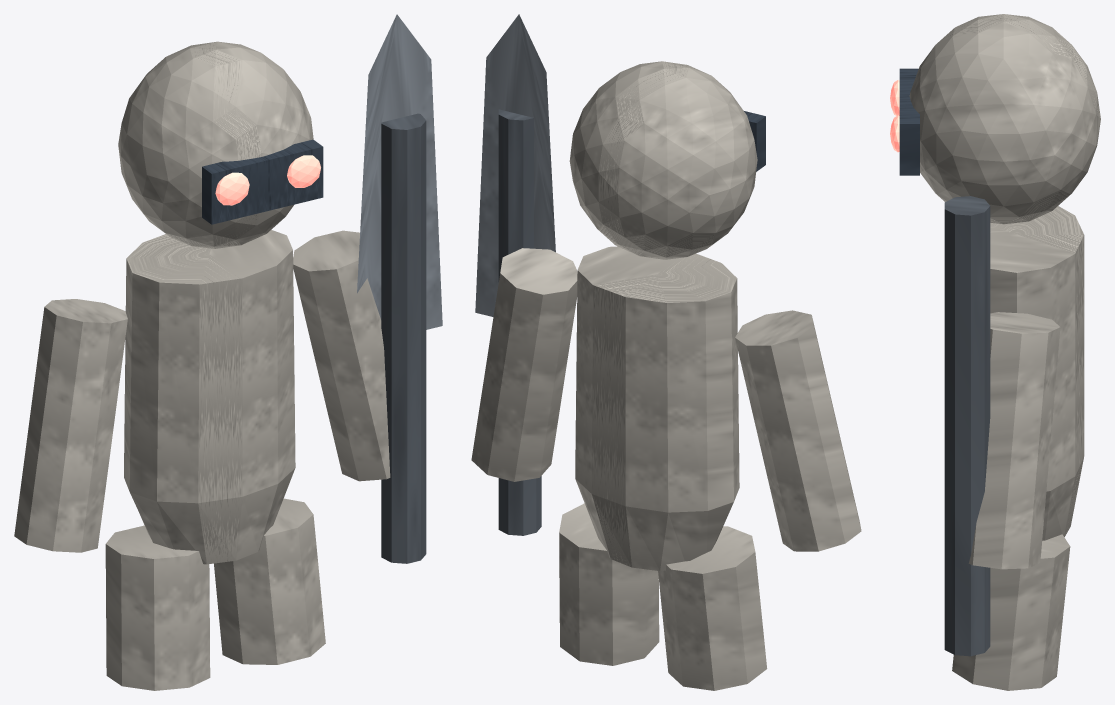
The model's file is summoned_skeleton.glb.
3 renders of one model, left to right at view 1: azimuth 30°, elevation 25°; view 2: azimuth 150°, elevation 25°; view 3: azimuth 270°, elevation 25°, orthographic. The views are drawn at different scales.
Parts seen in each view (by area): view 1: bone, iron, steel, blackiron, glowred; view 2: bone, steel, iron, blackiron; view 3: bone, iron, blackiron, glowred.
Part boxes in pixels (x1,y1,x2,y2): bone: [14, 41, 390, 690]; iron: [381, 113, 426, 563]; steel: [357, 14, 442, 329]; blackiron: [202, 139, 323, 224]; glowred: [215, 155, 320, 205]; bone: [471, 61, 861, 690]; steel: [475, 14, 555, 316]; iron: [498, 109, 541, 535]; blackiron: [744, 111, 765, 171]; bone: [909, 14, 1100, 690]; iron: [944, 196, 990, 656]; blackiron: [899, 68, 919, 175]; glowred: [890, 80, 899, 152].
Size of the model in its own units: 1.43 by 2.08 by 0.629.
Materials: 5 (5 with a texture image).
